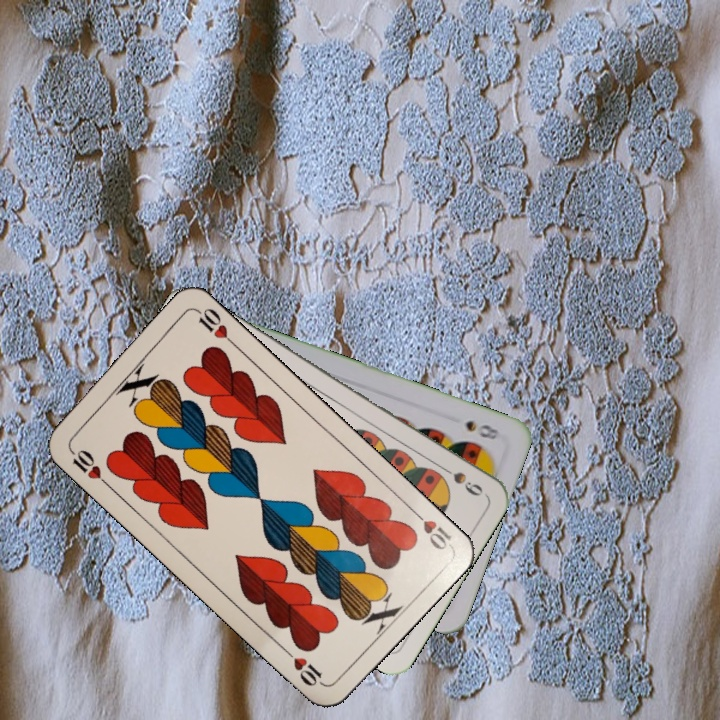H10: (407, 504, 455, 553), (65, 444, 112, 490)
S8: (461, 416, 507, 443)
S9: (434, 460, 486, 499)
